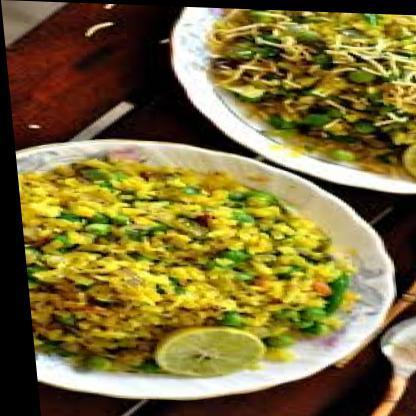poha: (12, 156, 354, 379), (204, 6, 416, 181)
